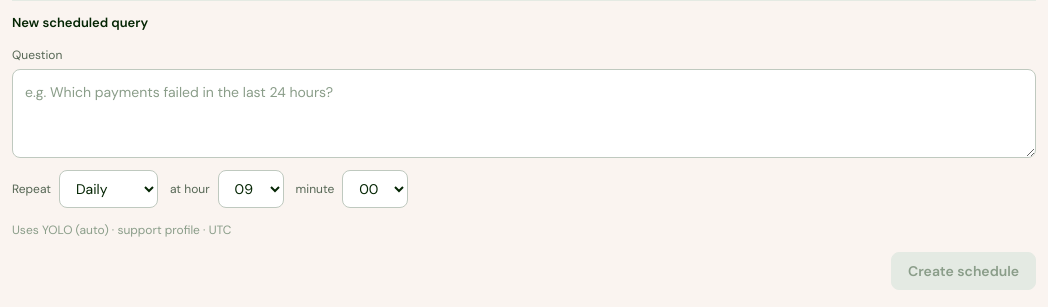
Test: ScheduleForm › keeps the submit button disabled until there is a question
Check: the button "Create schedule" is disabled, box [891,252,1036,290]
Type "Anything" into the text box labelled "Question" at (524, 114), box [12,69,1036,158]
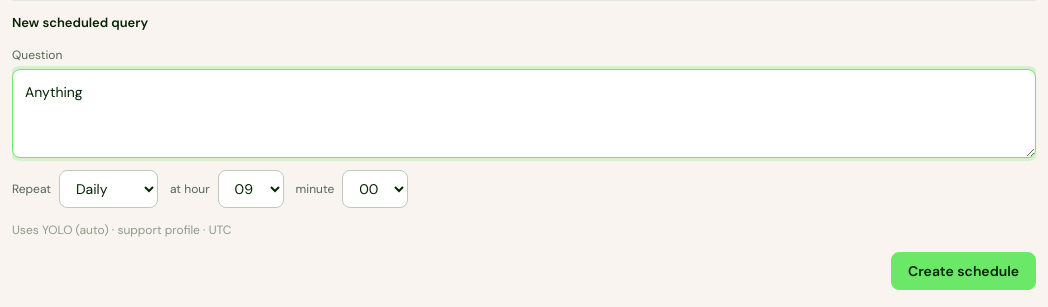
Check: the button "Create schedule" is enabled, box [891,252,1036,290]
